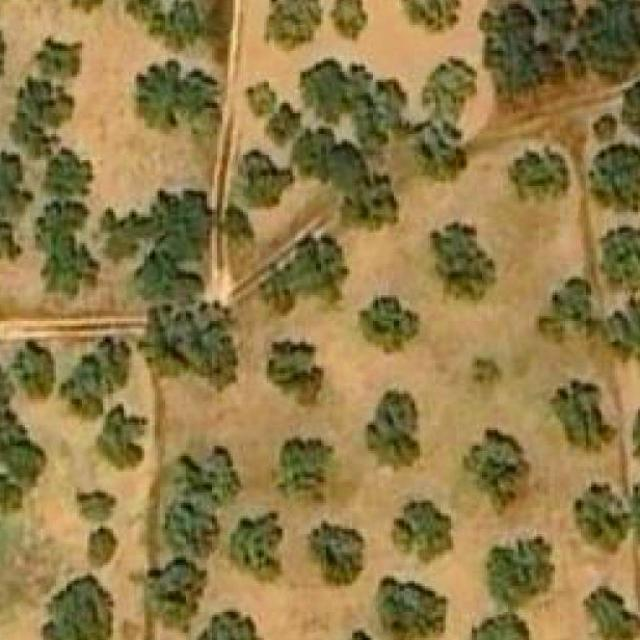Tree: (137, 300, 236, 394), (480, 0, 563, 96), (259, 231, 350, 317), (35, 197, 101, 300), (132, 59, 220, 132), (59, 336, 132, 419), (575, 0, 640, 84), (430, 222, 496, 304), (360, 392, 426, 474), (12, 75, 75, 153), (550, 381, 617, 454), (150, 186, 214, 261), (45, 575, 116, 640), (378, 575, 448, 640), (230, 511, 288, 587), (305, 524, 368, 589), (464, 430, 520, 503), (392, 501, 454, 563), (411, 121, 472, 184), (508, 147, 568, 210), (420, 56, 477, 122), (490, 544, 546, 610), (267, 337, 324, 399), (306, 59, 362, 122), (144, 562, 202, 622), (98, 404, 150, 470), (179, 449, 245, 501), (238, 149, 293, 210), (593, 144, 640, 215), (165, 487, 215, 553), (360, 298, 418, 353), (576, 487, 628, 548), (539, 281, 591, 342), (274, 440, 326, 501), (264, 0, 323, 53), (380, 0, 461, 38), (583, 586, 640, 640), (134, 251, 198, 298), (598, 224, 640, 292), (0, 144, 35, 225), (146, 0, 207, 46), (345, 178, 397, 230), (44, 150, 96, 197), (212, 204, 258, 256), (193, 609, 266, 640), (601, 303, 640, 358), (41, 39, 82, 83), (18, 342, 54, 392), (328, 0, 368, 41), (470, 355, 514, 392), (459, 617, 522, 640), (267, 103, 301, 144), (77, 487, 116, 522), (243, 77, 274, 116), (0, 217, 22, 264), (90, 529, 114, 565), (0, 477, 20, 516)
